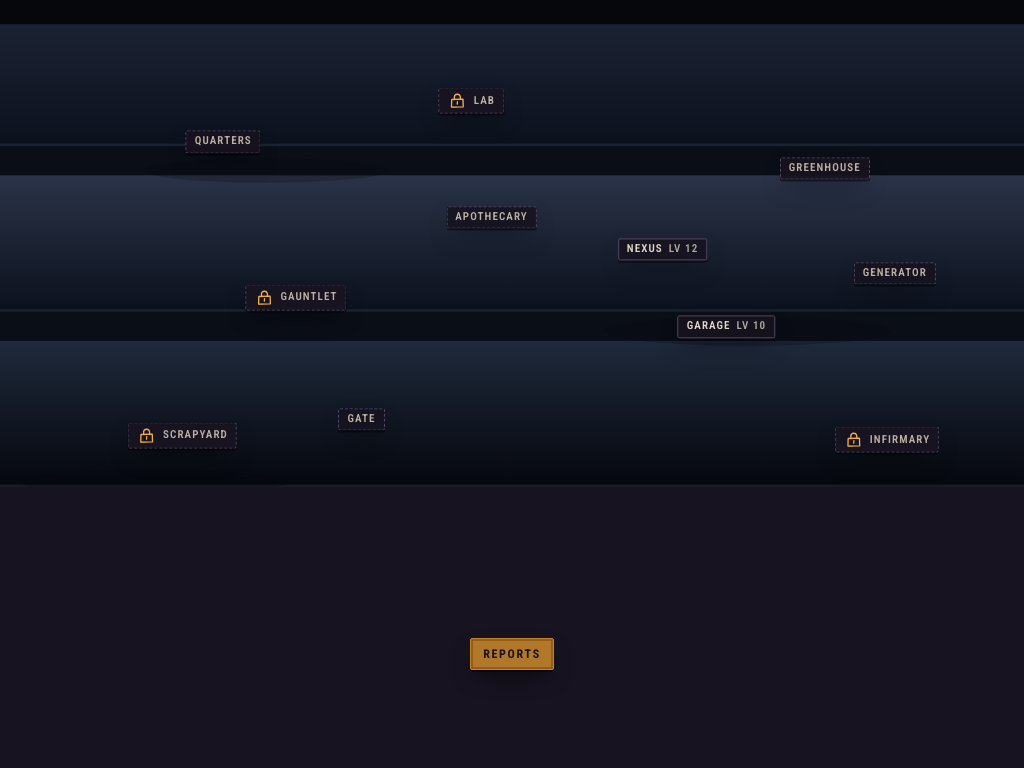
Scenario: a ten-rung structure at its ceiling › reads as finished, and promises no slot past level 10
This screenshot has width=1024, height=768.
Click the button "Garage Lv 10": [726, 327] box [678, 316, 775, 338]
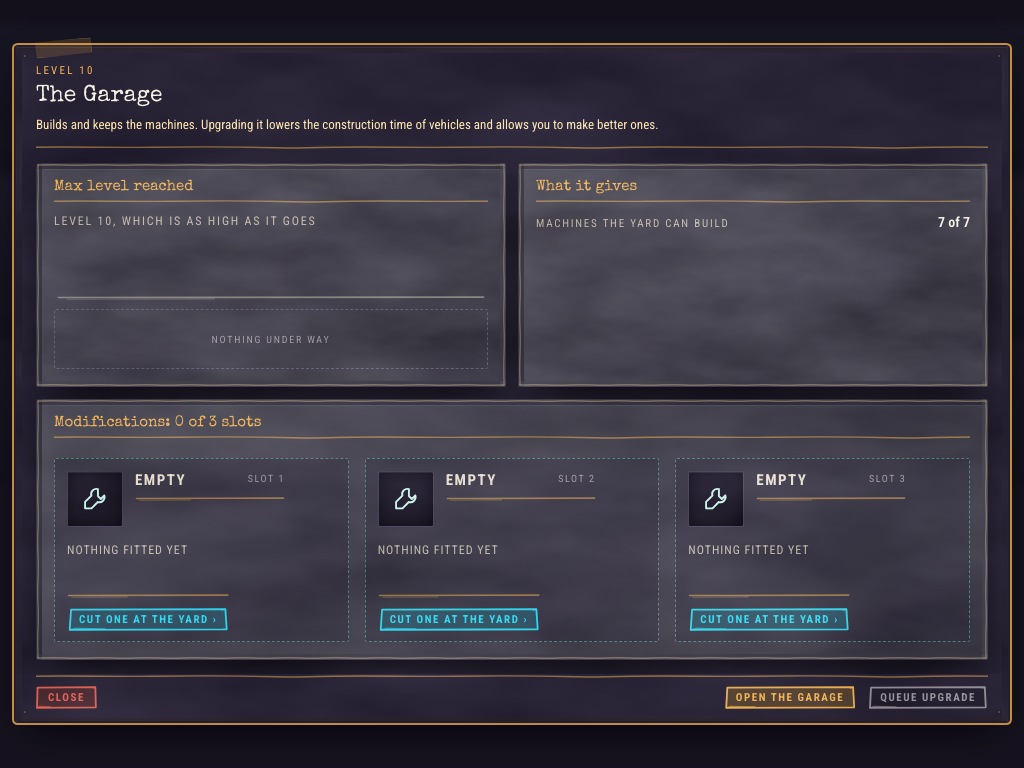
Now the text with test id "structure-ceiling" reads "LEVEL 10, WHICH IS AS HIGH AS IT GOES", box [54, 214, 317, 228]
Now the dialog shows "Modifications: 0 of 3 slots", box [54, 415, 262, 430]
